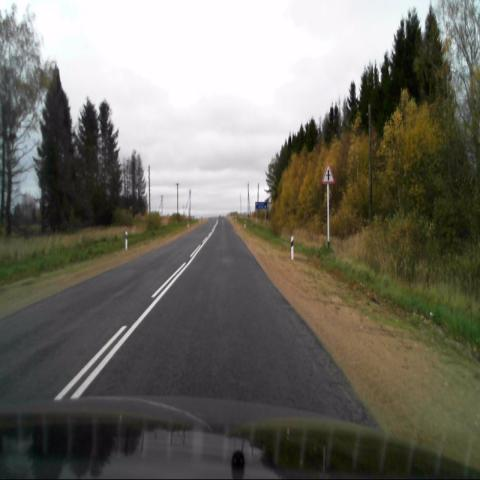2_3: (321, 163, 335, 185)
